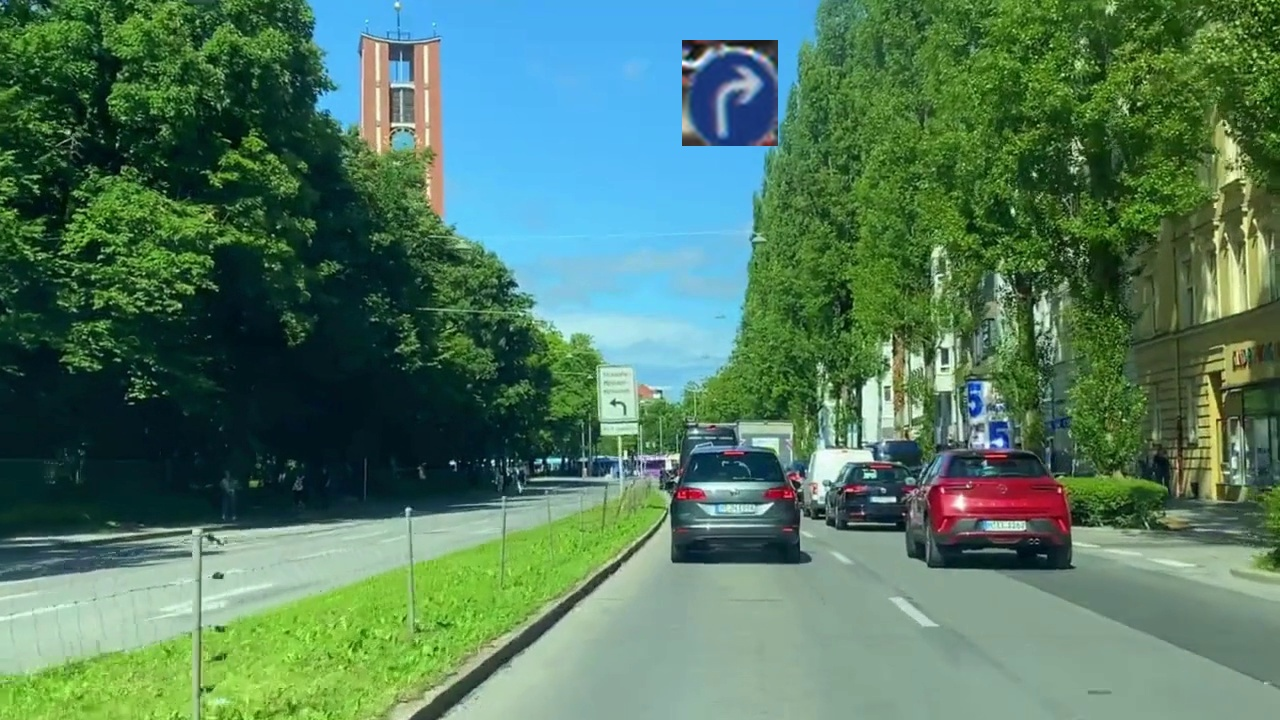Turn right: (682, 40, 778, 146)
